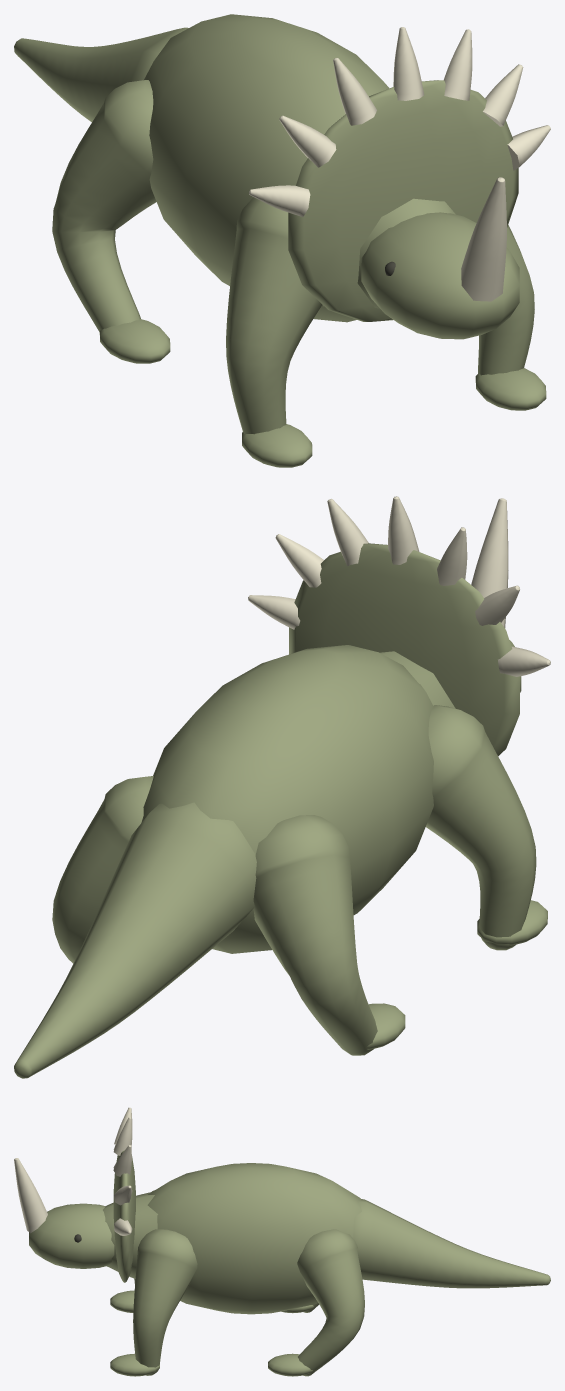
The model's file is styracosaurus.glb.
3 views of the same model, one above another, from view 1: azimuth 30°, elevation 25°; view 2: azimuth 150°, elevation 25°; view 3: azimuth 270°, elevation 25° (orthographic). The views are drawn at different scales.
Visible parts, largest first — view 1: styracosaurus; view 2: styracosaurus; view 3: styracosaurus.
Part boxes in pixels (bbox=[...]): styracosaurus: bbox=[14, 14, 550, 467]; styracosaurus: bbox=[14, 496, 550, 1078]; styracosaurus: bbox=[14, 1107, 550, 1376].
Bounding box in the file's own units: 1.97 × 2.57 × 5.5.
